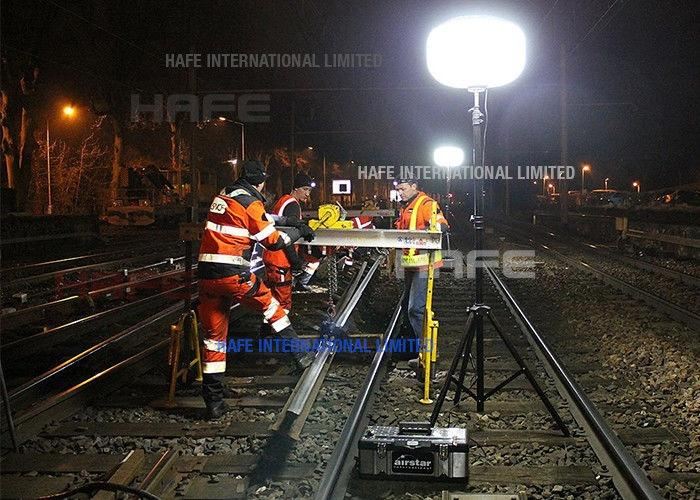Vest: (199, 189, 269, 275), (393, 198, 450, 234)
